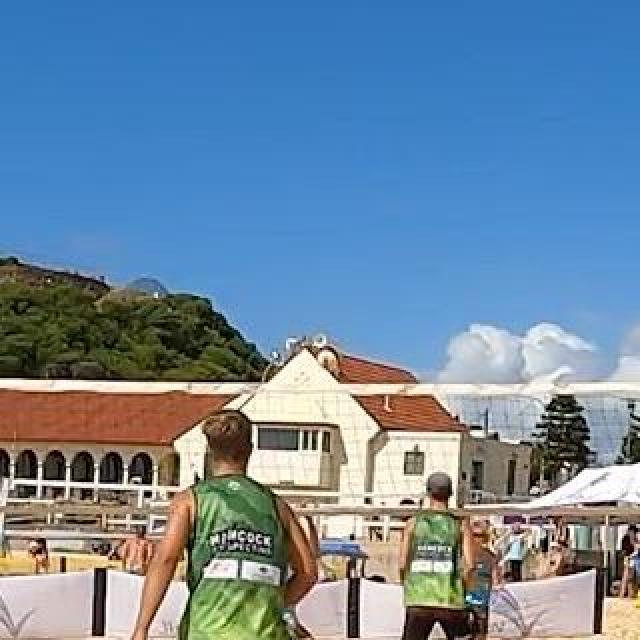volleyball: (316, 344, 344, 370)
